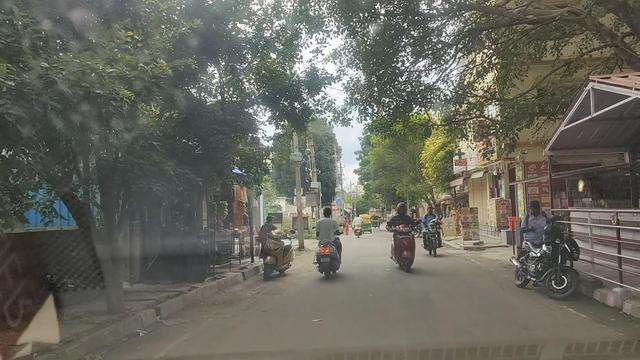LMV: (511, 198, 579, 303), (305, 201, 344, 290), (253, 212, 296, 284), (385, 199, 420, 272)
